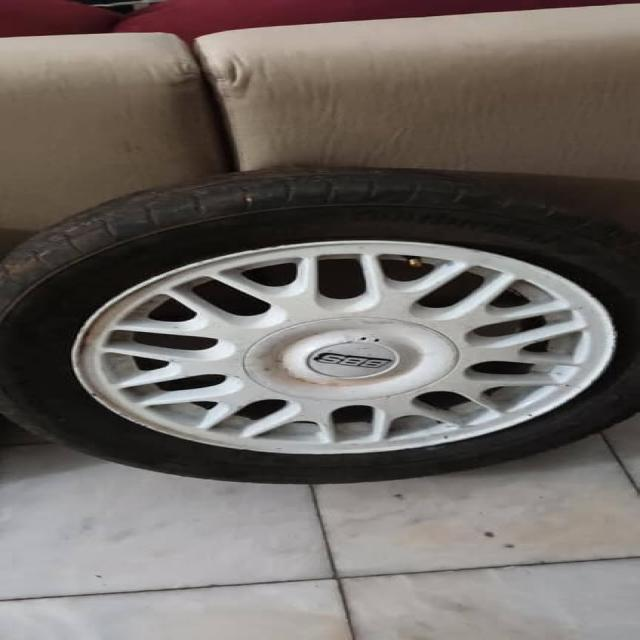jante: (69, 237, 619, 453)
roda: (0, 165, 640, 486)
